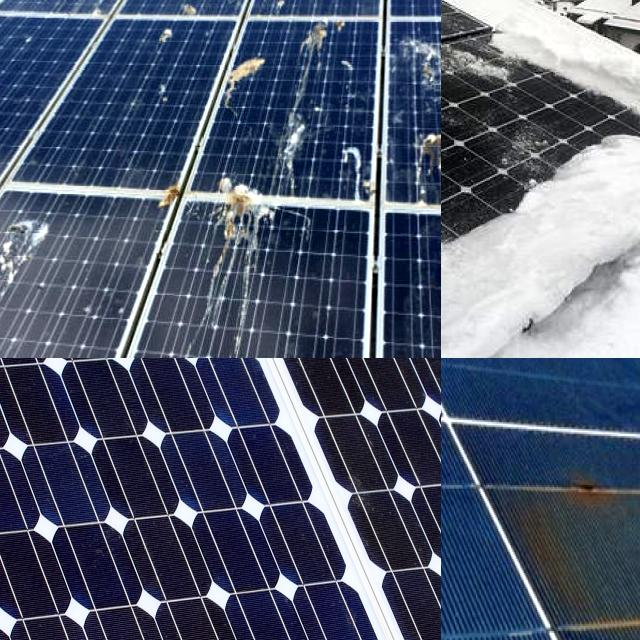bird: (213, 181, 289, 254), (0, 206, 44, 317), (222, 30, 284, 91), (304, 19, 364, 72), (397, 24, 441, 84), (150, 162, 191, 224), (410, 120, 441, 184), (152, 18, 186, 62), (267, 0, 292, 36), (179, 0, 203, 34), (60, 0, 101, 19), (152, 72, 172, 110), (297, 0, 328, 15)
crack: (0, 358, 441, 640)
panel: (459, 167, 640, 259), (441, 262, 574, 358), (441, 0, 512, 125), (523, 5, 633, 85), (441, 0, 513, 100), (562, 80, 640, 162), (441, 0, 490, 25)
shadow: (485, 442, 640, 640)
